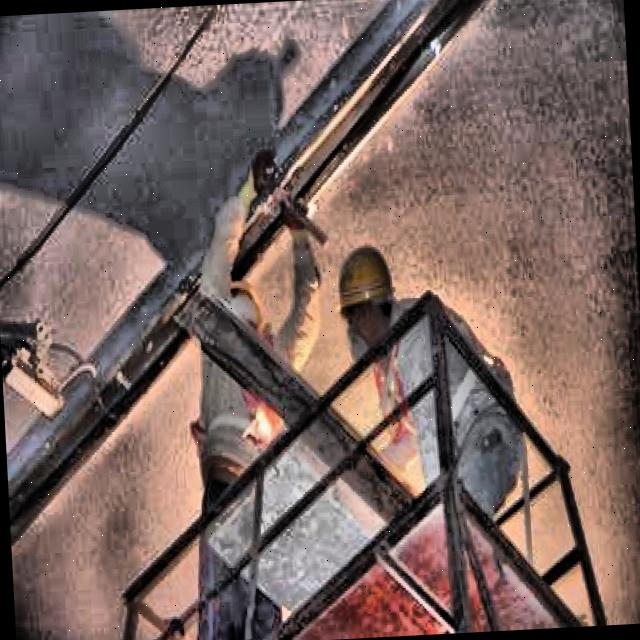helmet: (332, 239, 402, 360)
